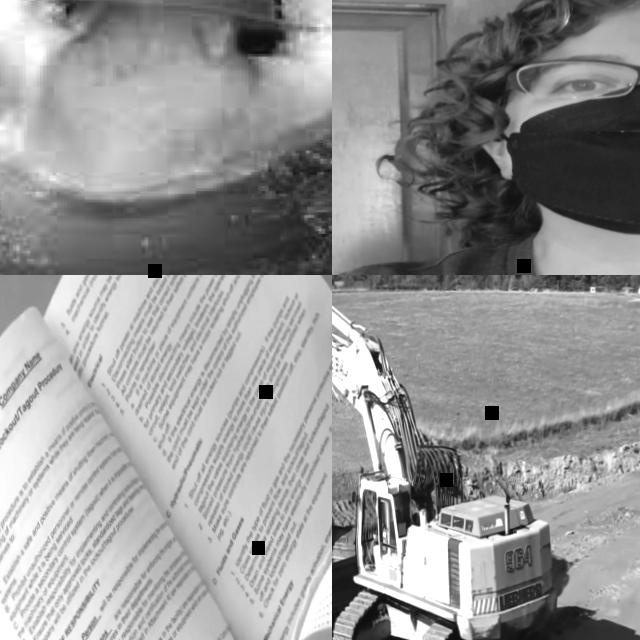Mask: (500, 78, 640, 235)
NO-Hardhat: (451, 0, 640, 51)
Person: (332, 0, 640, 275), (365, 523, 388, 564)
machinery: (332, 277, 558, 640)
